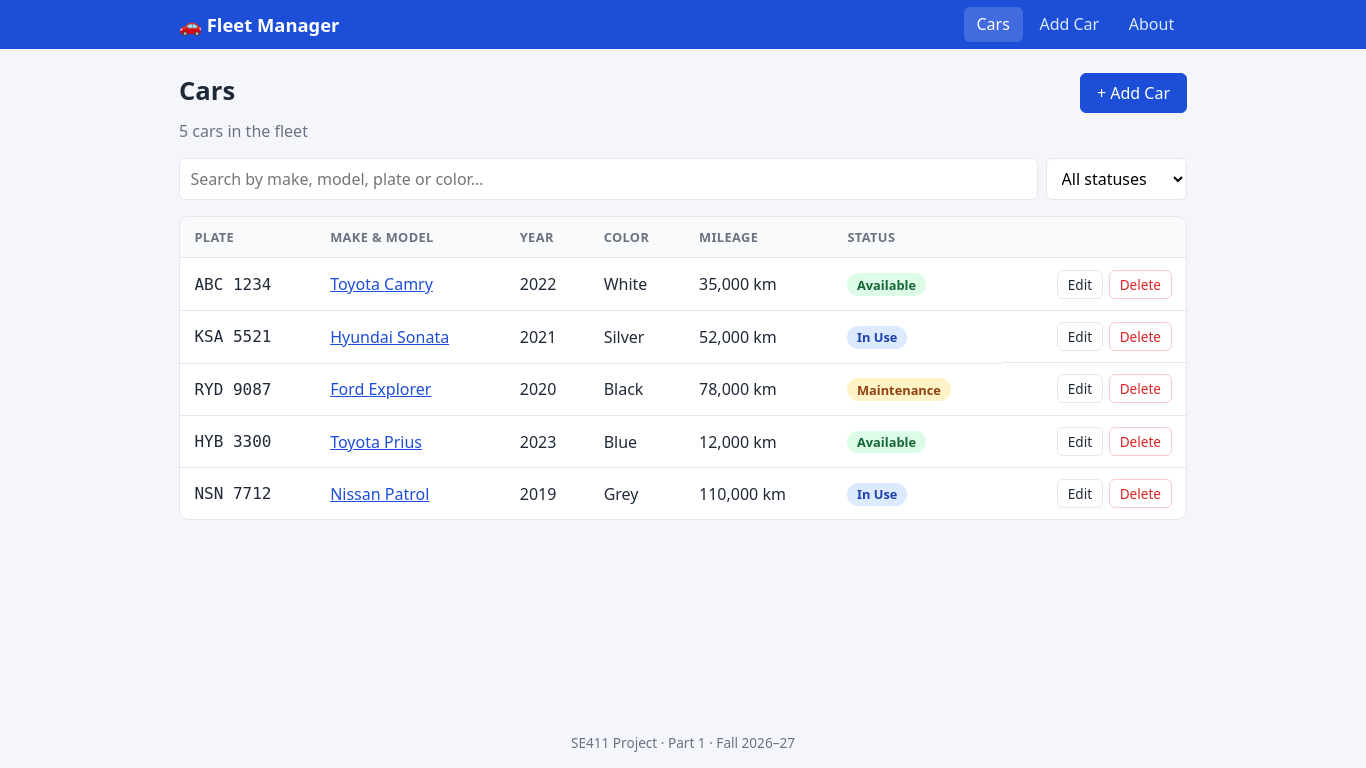
Scenario: Car management (CRUD) › filters cars by search text and status
This screenshot has width=1366, height=768.
Type "toyota" into the search field named "Search cars" at (609, 179), box [179,158,1038,200]
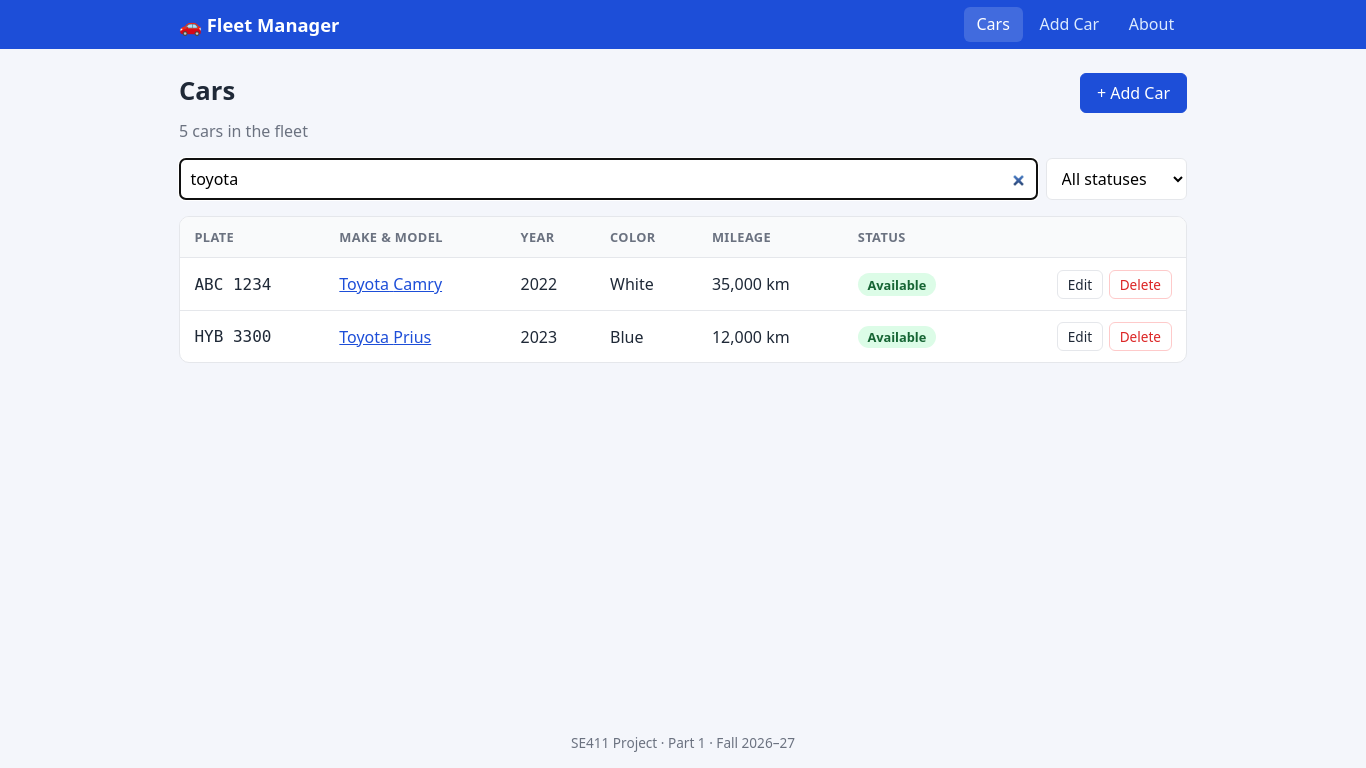
Expected: the text "ABC 1234" is shown, [180,258,325,311]
Expected: the text "KSA 5521" is gone
Select "Available" in the dropdown named "Filter by status" at (1117, 179), box [1046,158,1187,200]
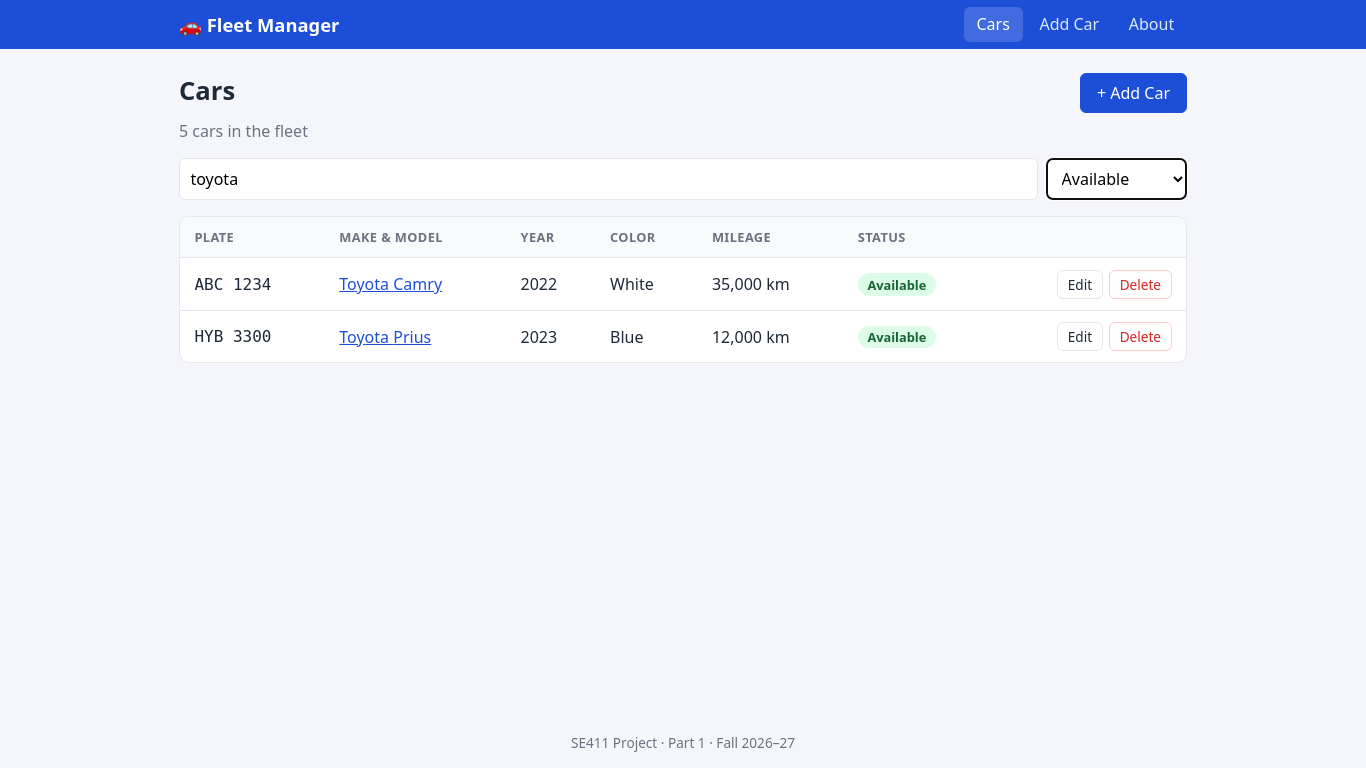
Replace the text in the search field named "Search cars" with "zzz" at (609, 179), box [179,158,1038,200]
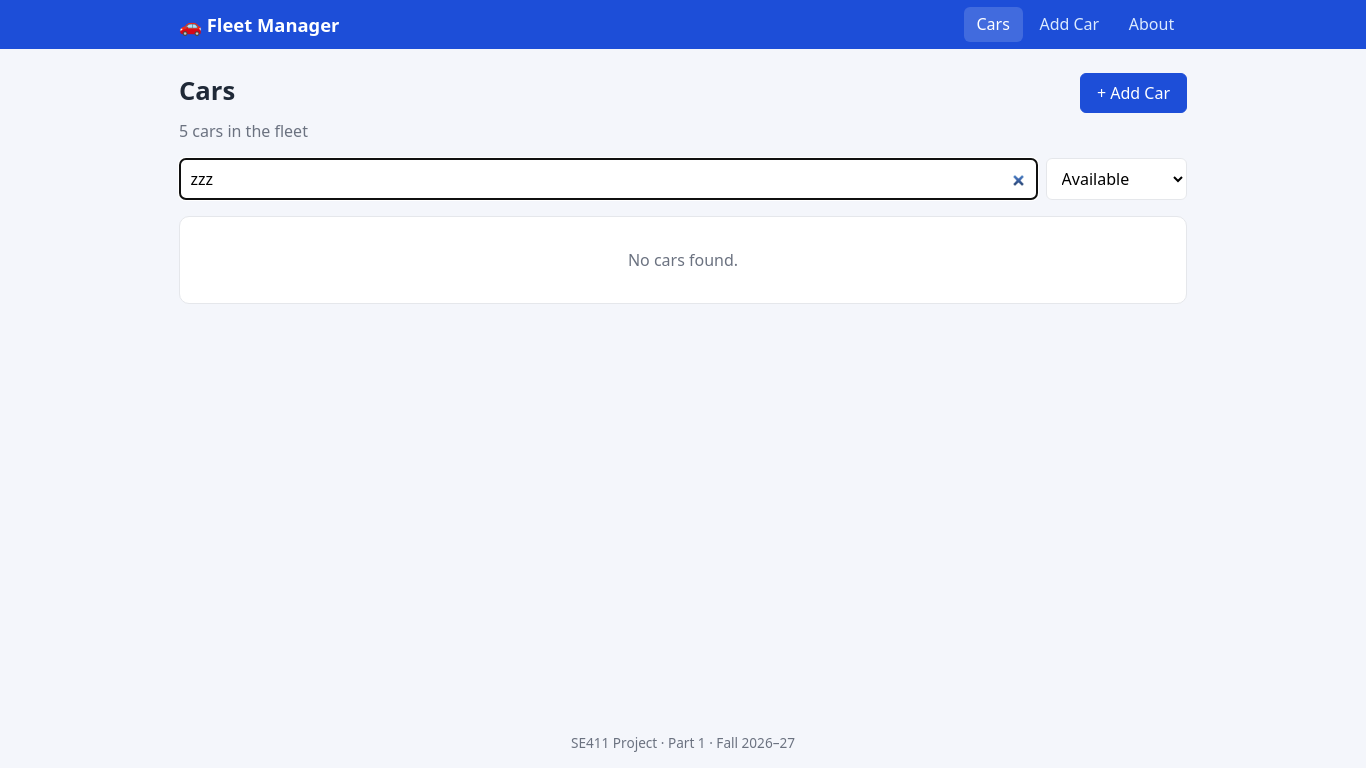
Expected: the text "No cars found." is shown, [179,216,1187,304]
